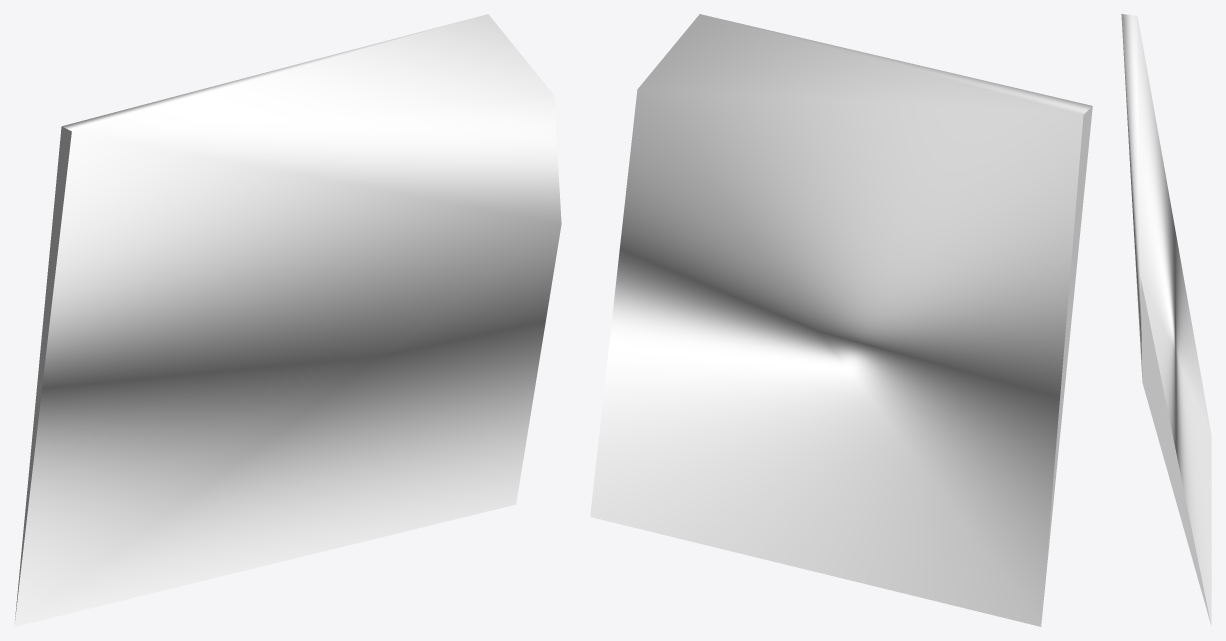
3 renders of one model, left to right at view 1: azimuth 30°, elevation 25°; view 2: azimuth 150°, elevation 25°; view 3: azimuth 270°, elevation 25°, orthographic. The views are drawn at different scales.
Size of the model in its own units: 0.2224 by 0.2295 by 0.044.
1 material, 1 textured.
